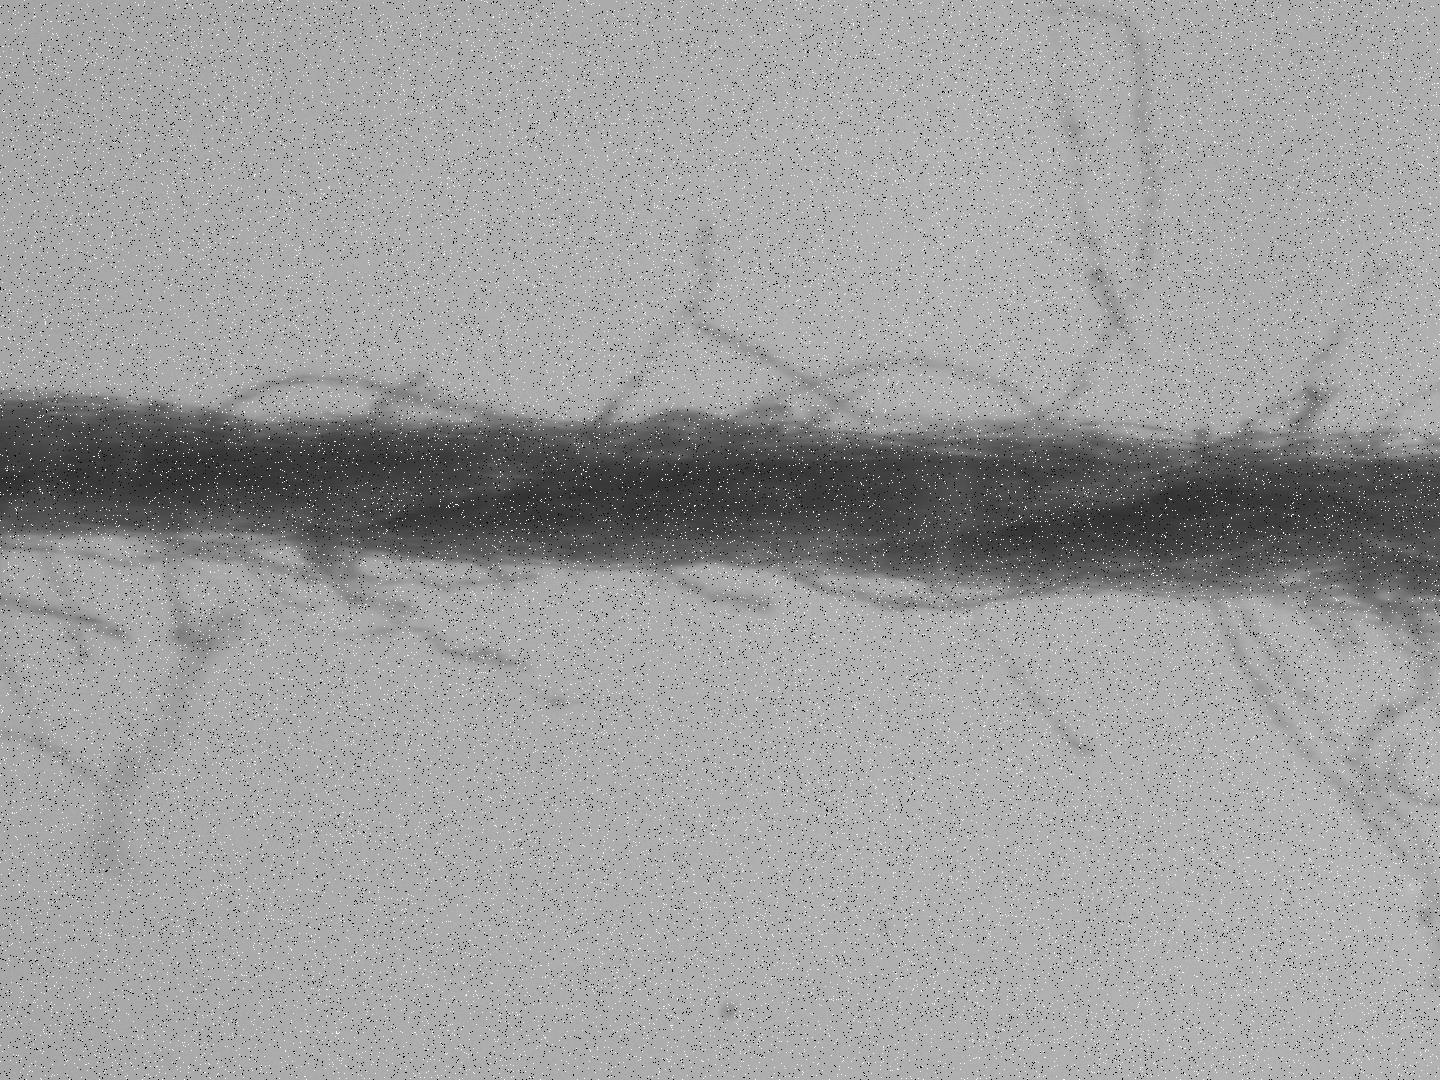loop_fiber: (1196, 593, 1439, 986), (81, 534, 259, 897), (1036, 6, 1176, 419), (718, 348, 1059, 437), (203, 363, 559, 439), (763, 565, 1098, 622), (5, 524, 330, 576), (1208, 377, 1337, 452), (1286, 594, 1373, 672)
protruding_fiber: (286, 534, 599, 711), (916, 579, 1106, 770), (683, 319, 1002, 431), (582, 209, 719, 431), (1282, 254, 1401, 455), (209, 537, 550, 591), (1363, 605, 1434, 801), (34, 528, 113, 670), (332, 354, 455, 434), (618, 567, 791, 621), (1, 588, 150, 644), (1355, 383, 1439, 444)
